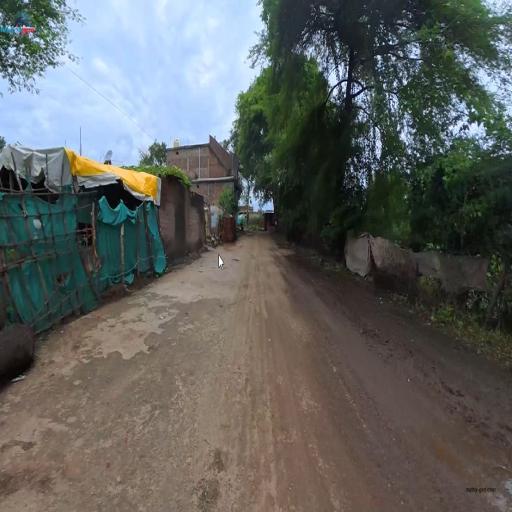ravelling: (126, 304, 192, 389)
